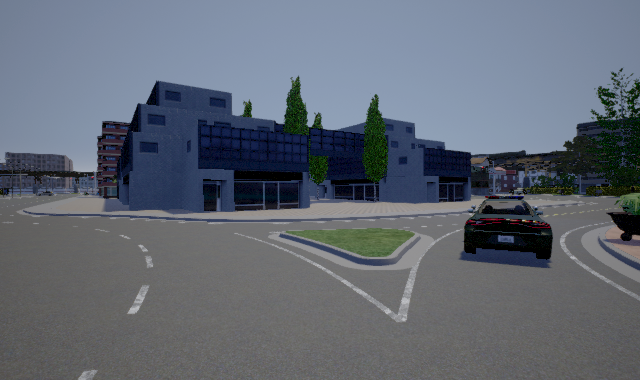vehicle: (464, 196, 553, 260)
